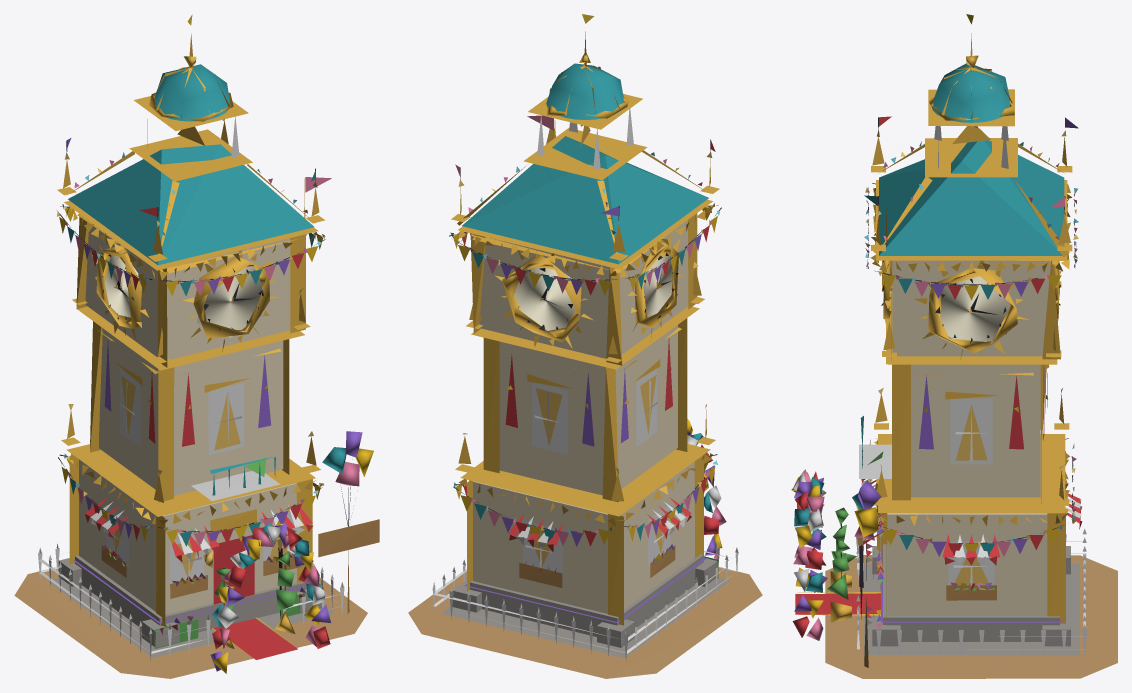
The model's file is clock-tower-lod1-6.fc5a2740.glb.
The picture shows the model from 3 angles, left to right: view 1: azimuth 30°, elevation 25°; view 2: azimuth 150°, elevation 25°; view 3: azimuth 270°, elevation 25°; orthographic projection. The views are drawn at different scales.
Parts seen in each view (by area): view 1: ClockTower_Stage6__T_vcol; view 2: ClockTower_Stage6__T_vcol; view 3: ClockTower_Stage6__T_vcol.
Part boxes in pixels (x1,y1,x2,y2): ClockTower_Stage6__T_vcol: [14, 14, 379, 678]; ClockTower_Stage6__T_vcol: [408, 14, 762, 678]; ClockTower_Stage6__T_vcol: [791, 14, 1117, 678].
Bounding box in the file's own units: 4.91 × 10.63 × 5.22.
